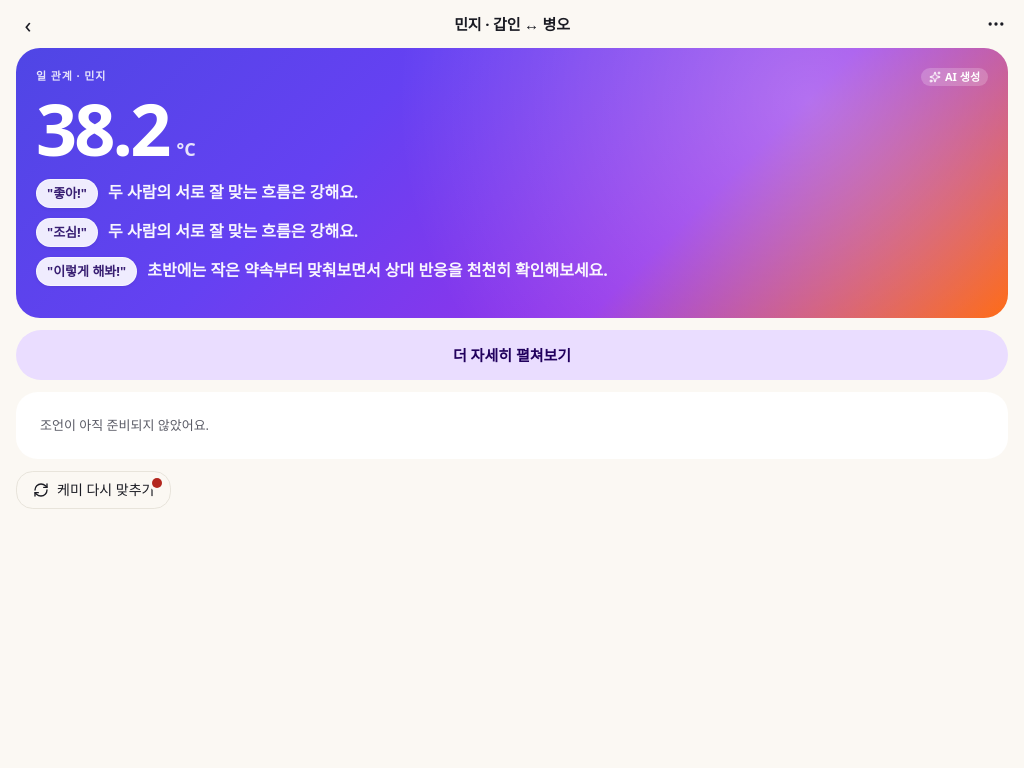
Test: HapcardView 인연 삭제 캐시 무효화 › 인연 삭제 성공 시 feed/relations 뿐 아니라 today 캐시도 무효화한다
This screenshot has width=1024, height=768.
What coordinates should you click on to do the following:
click the button named "more"
I would click on:
 (996, 24)
Its box is top-left (980, 8), bottom-right (1012, 40).
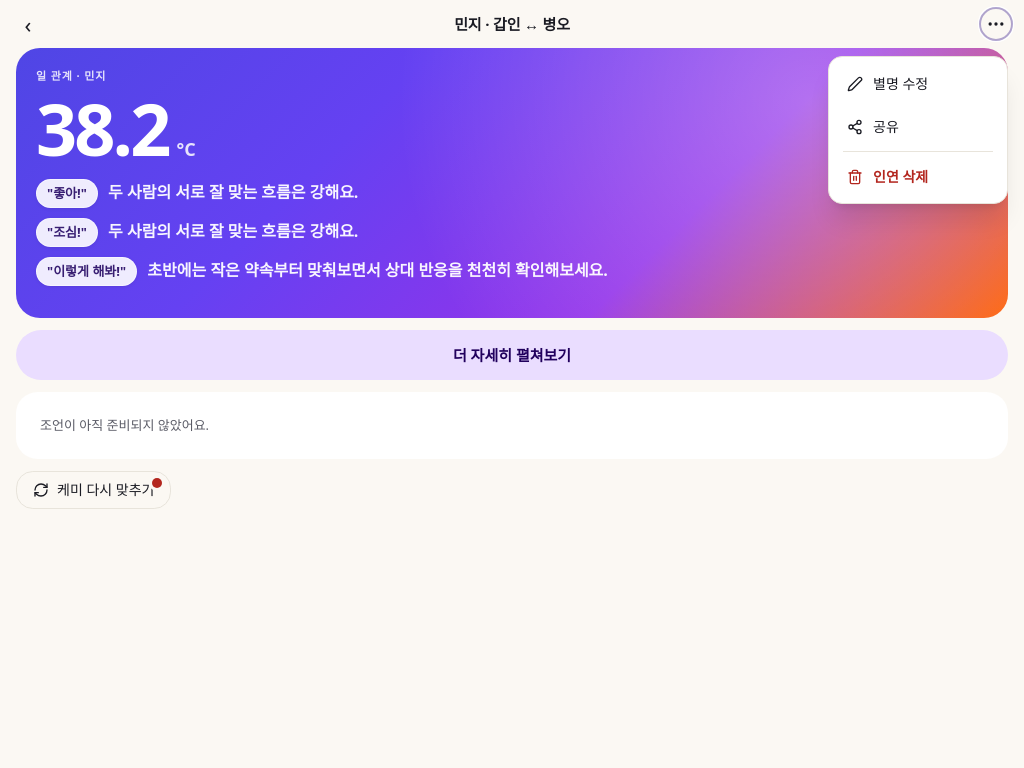
What coordinates should you click on to do the following:
click the button "인연 삭제"
I would click on:
 (918, 176)
Its box is top-left (835, 156), bottom-right (1001, 197).
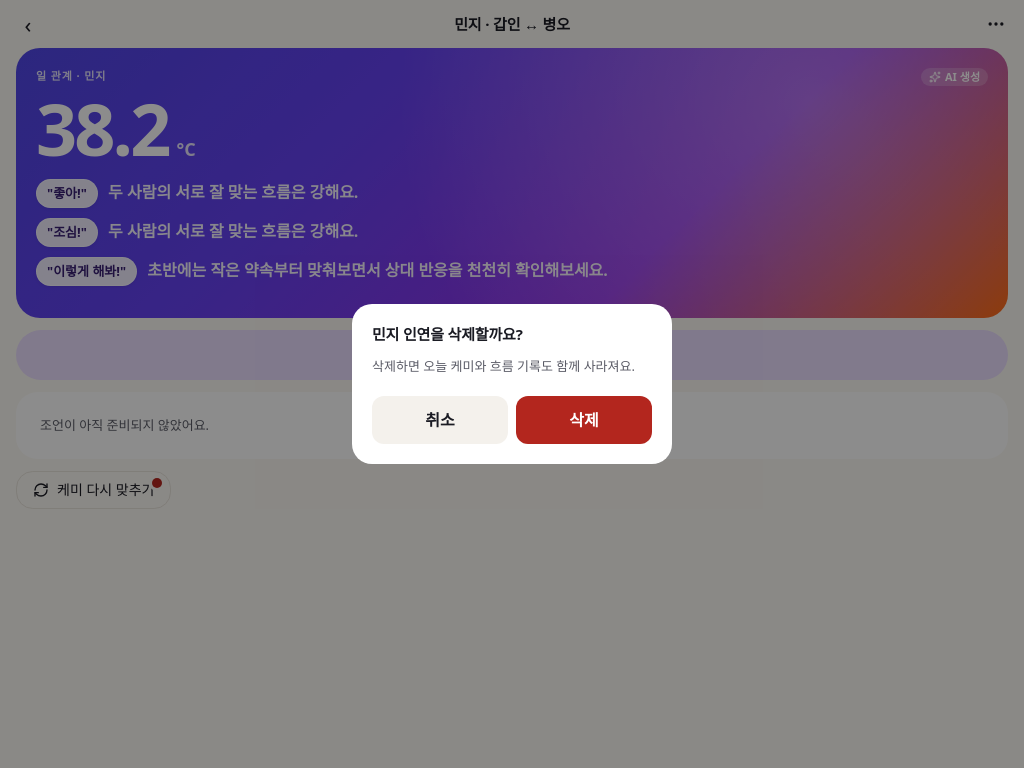
Expected: the text "민지 인연을 삭제할까요?" is shown, top-left (372, 324), bottom-right (523, 344)
What coordinates should you click on to do the following:
click the button "삭제"
I would click on:
 (584, 420)
Its box is top-left (516, 396), bottom-right (652, 444).
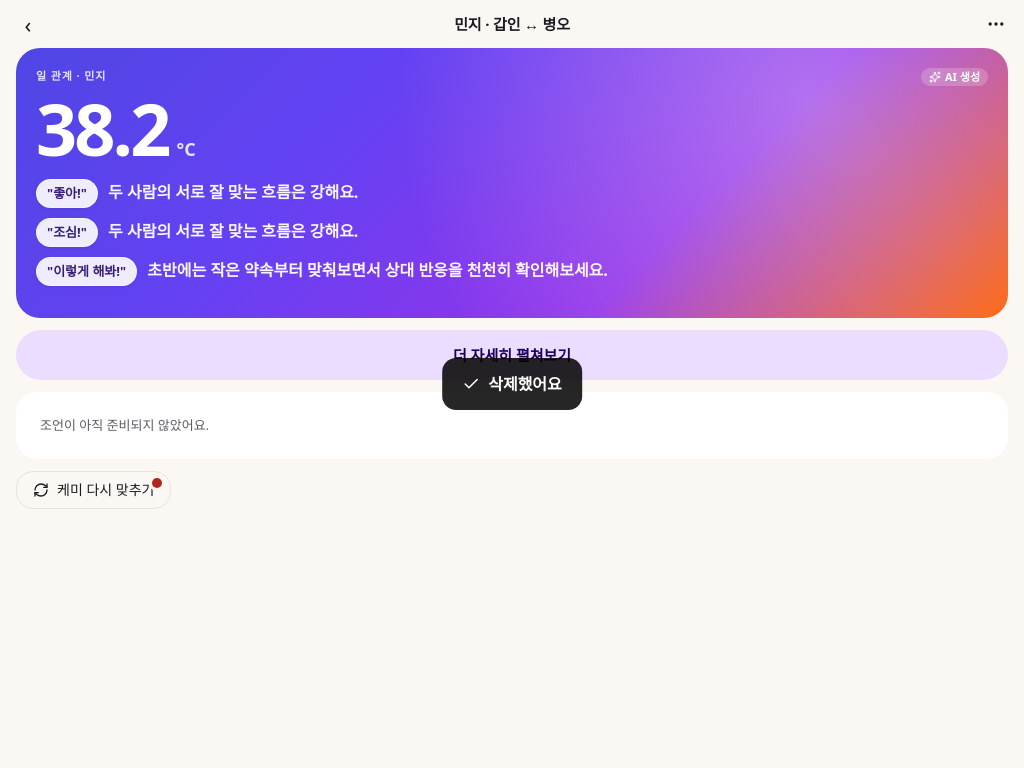
Expected: the text "삭제했어요" is shown, top-left (442, 358), bottom-right (582, 410)
